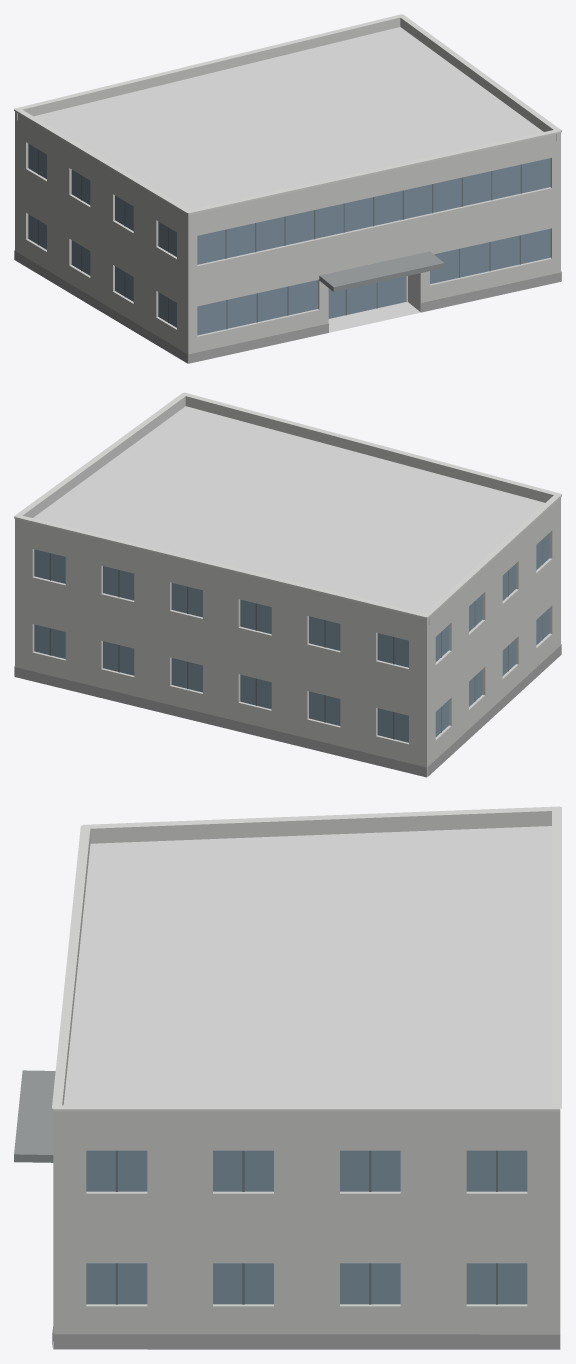
3 renders of one model, top to bottom at view 1: azimuth 30°, elevation 25°; view 2: azimuth 150°, elevation 25°; view 3: azimuth 270°, elevation 25°, orthographic. The views are drawn at different scales.
Visible parts, largest first — view 1: civilLab__roof, civilLab__wall, civilLab__glass, civilLab__parapet, civilLab__trim, civilLab__base, civilLab__canopy, civilLab__frame; view 2: civilLab__wall, civilLab__roof, civilLab__glass, civilLab__parapet, civilLab__trim, civilLab__base, civilLab__frame; view 3: civilLab__roof, civilLab__wall, civilLab__glass, civilLab__parapet, civilLab__trim, civilLab__base, civilLab__canopy, civilLab__frame.
Boxes of the visible parts, x1=… form: civilLab__roof: x1=34, y1=27, x2=543, y2=332; civilLab__wall: x1=15, y1=119, x2=560, y2=363; civilLab__glass: x1=28, y1=143, x2=550, y2=335; civilLab__parapet: x1=15, y1=17, x2=560, y2=222; civilLab__trim: x1=14, y1=14, x2=561, y2=214; civilLab__base: x1=14, y1=250, x2=561, y2=363; civilLab__canopy: x1=319, y1=251, x2=444, y2=291; civilLab__frame: x1=38, y1=149, x2=521, y2=329; civilLab__wall: x1=15, y1=504, x2=560, y2=776; civilLab__roof: x1=33, y1=406, x2=544, y2=613; civilLab__glass: x1=34, y1=533, x2=549, y2=742; civilLab__parapet: x1=15, y1=396, x2=560, y2=626; civilLab__trim: x1=14, y1=392, x2=561, y2=618; civilLab__base: x1=14, y1=644, x2=561, y2=777; civilLab__frame: x1=49, y1=540, x2=542, y2=739; civilLab__roof: x1=53, y1=826, x2=551, y2=1349; civilLab__wall: x1=53, y1=1123, x2=560, y2=1334; civilLab__glass: x1=86, y1=1150, x2=527, y2=1304; civilLab__parapet: x1=53, y1=811, x2=560, y2=1123; civilLab__trim: x1=51, y1=806, x2=561, y2=1111; civilLab__base: x1=52, y1=1326, x2=560, y2=1349; civilLab__canopy: x1=14, y1=1070, x2=55, y2=1162; civilLab__frame: x1=115, y1=1150, x2=497, y2=1304.
Size of the model in its own units: 25.95 by 9.62 by 19.84.
